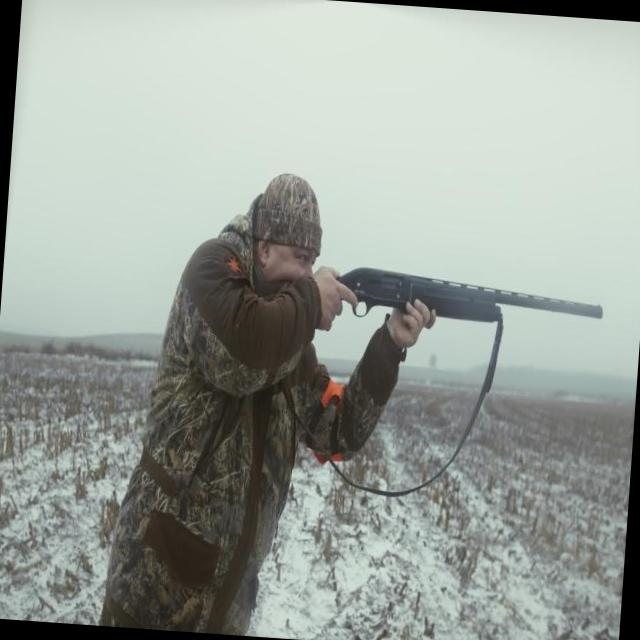ranger: (72, 140, 384, 620)
weapon: (333, 262, 620, 362)
